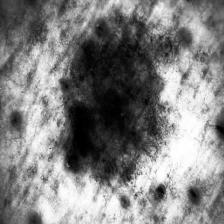Benign Marking or Mole: (56, 24, 169, 192)
